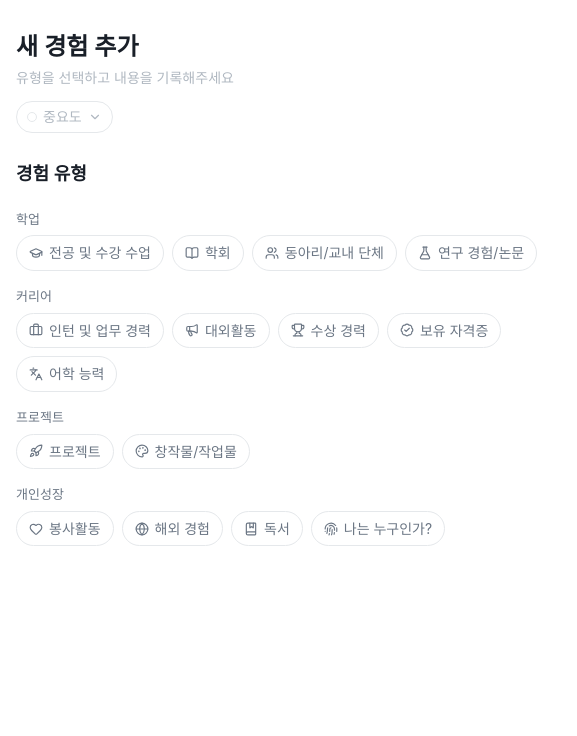
FRT-178 동아리 역할 태그 동기화 › 동아리는 확정본 4카드와 안내 문구를 보여준다
Step 1. Click the button "동아리/교내 단체" → [324, 253], box [252,236,397,271]
(page scrolled)
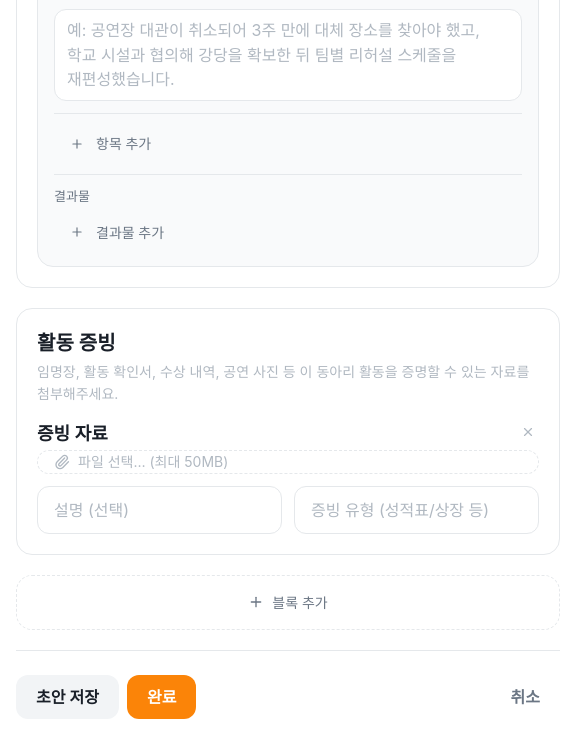
expect the text "임명장, 활동 확인서, 수상 내역, 공연 사진 등 이 동아리 활동을 증명할 수 있는 자료를 첨부해주세요." is shown: met, box [37,361,539,405]
